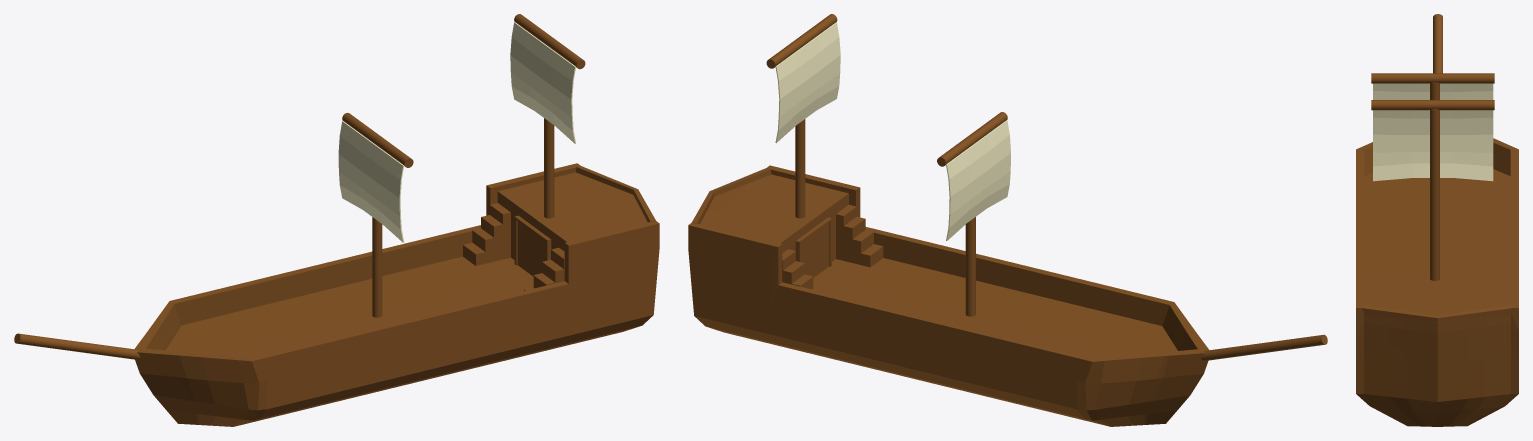
The model's file is ship.fbx.
The picture shows the model from 3 angles, left to right: view 1: azimuth 30°, elevation 25°; view 2: azimuth 150°, elevation 25°; view 3: azimuth 270°, elevation 25°; orthographic projection.
Parts seen in each view (by area): view 1: Cube; view 2: Cube; view 3: Cube.
Part boxes in pixels (x1,y1,x2,y2): Cube: (14, 14, 659, 426); Cube: (688, 14, 1327, 426); Cube: (1356, 14, 1518, 426).
Bounding box in the file's own units: 2370 × 1093 × 544.
